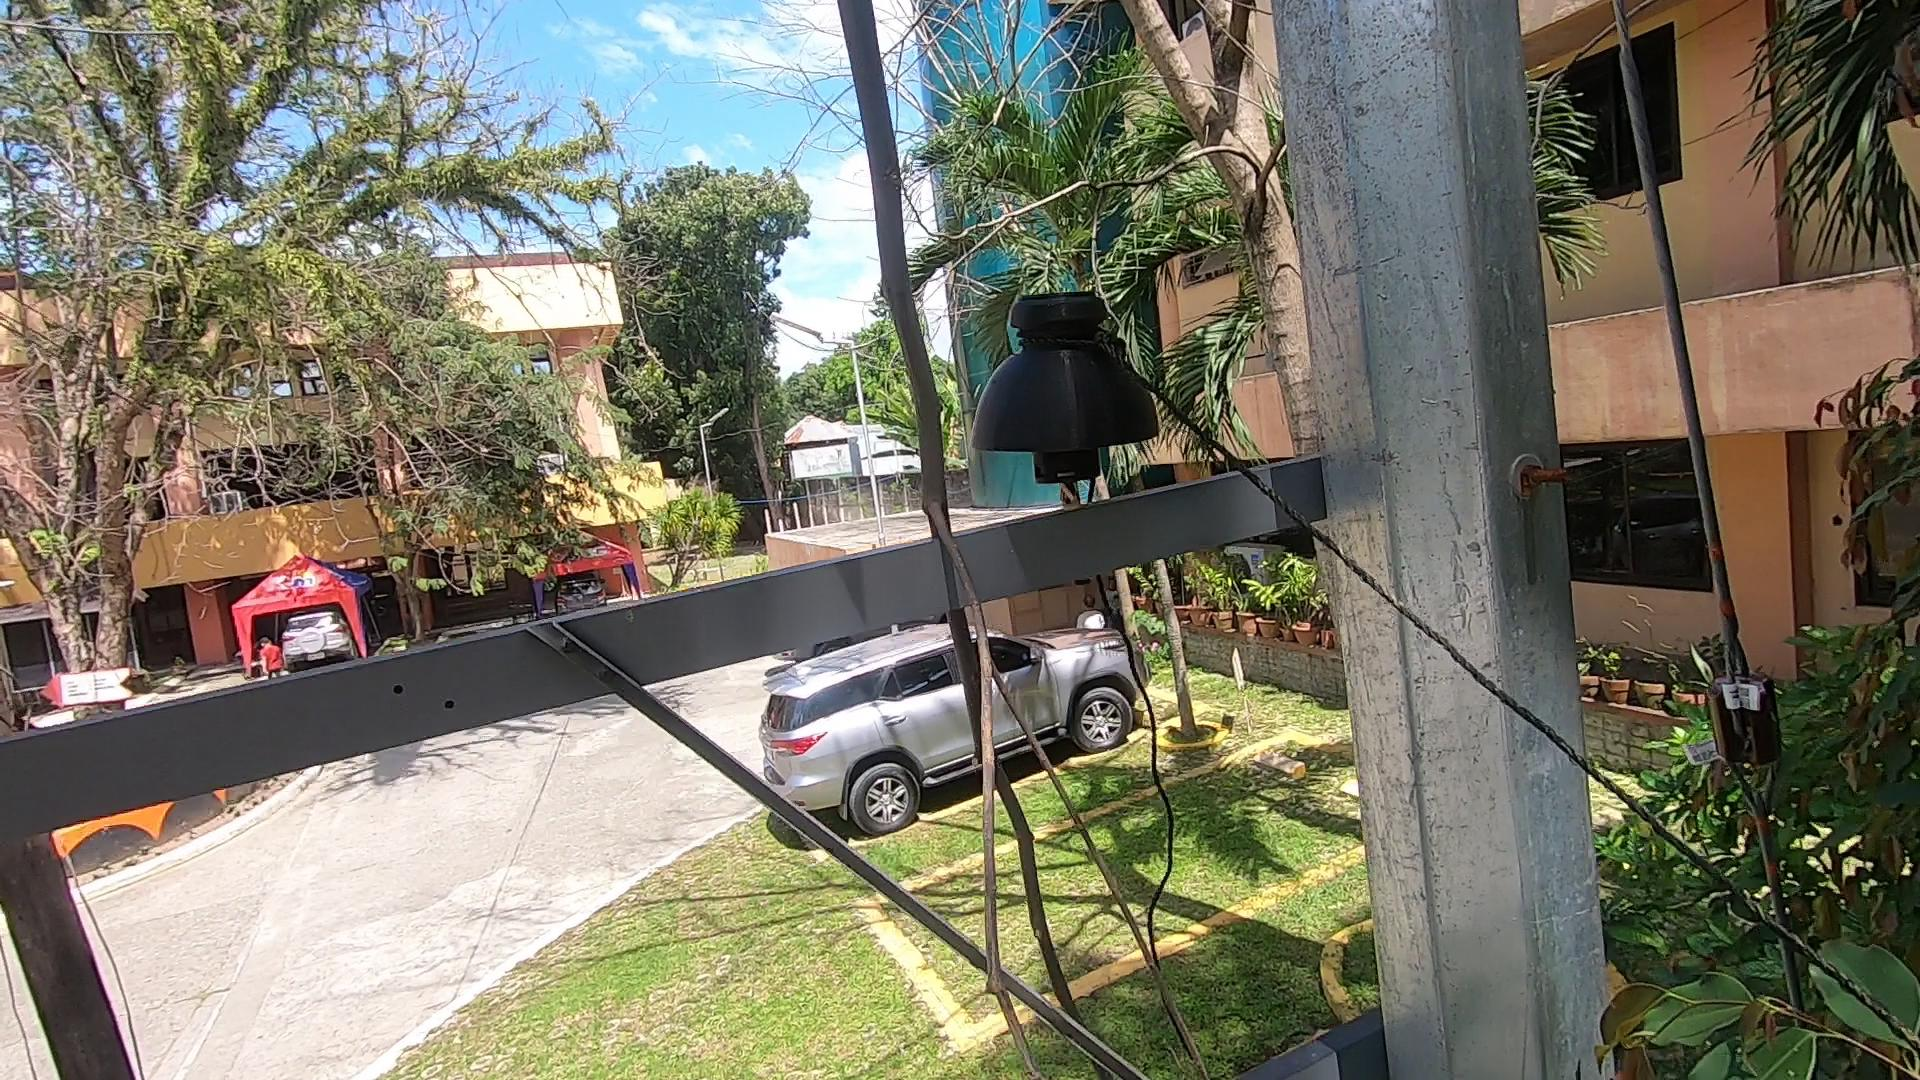tree branch: (774, 3, 1160, 1077)
